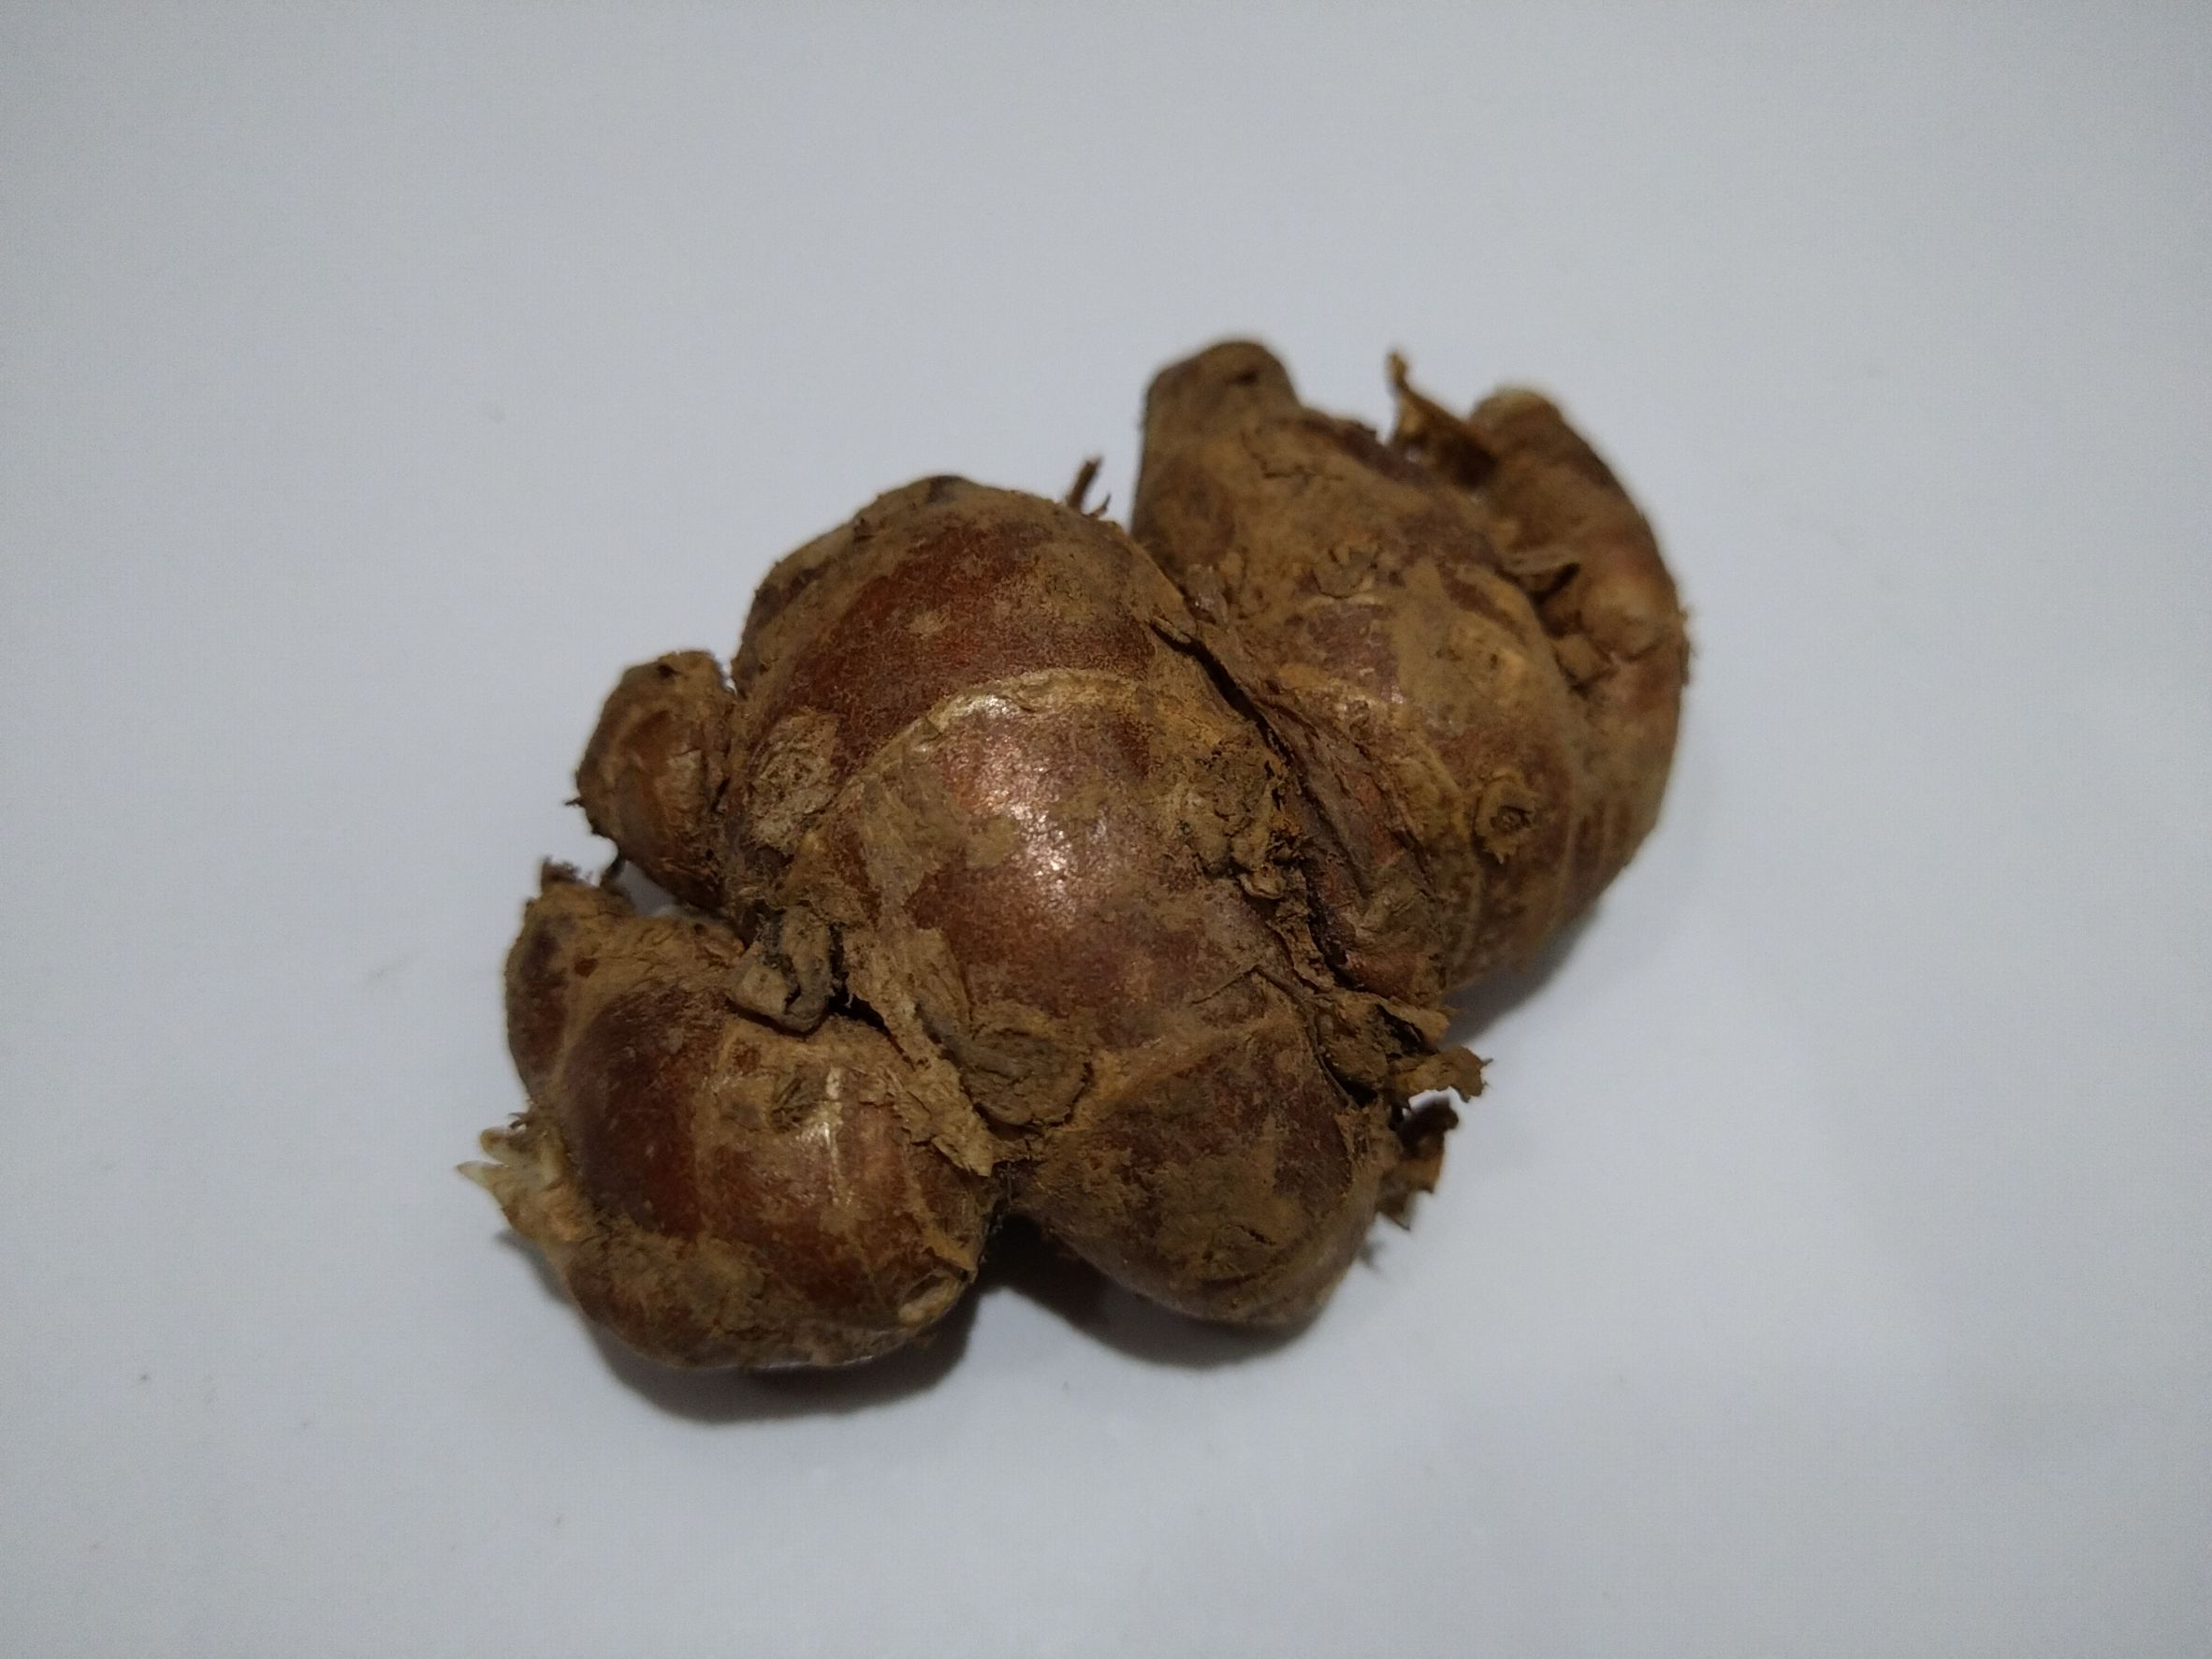Kencur: (474, 333, 1707, 1415)
